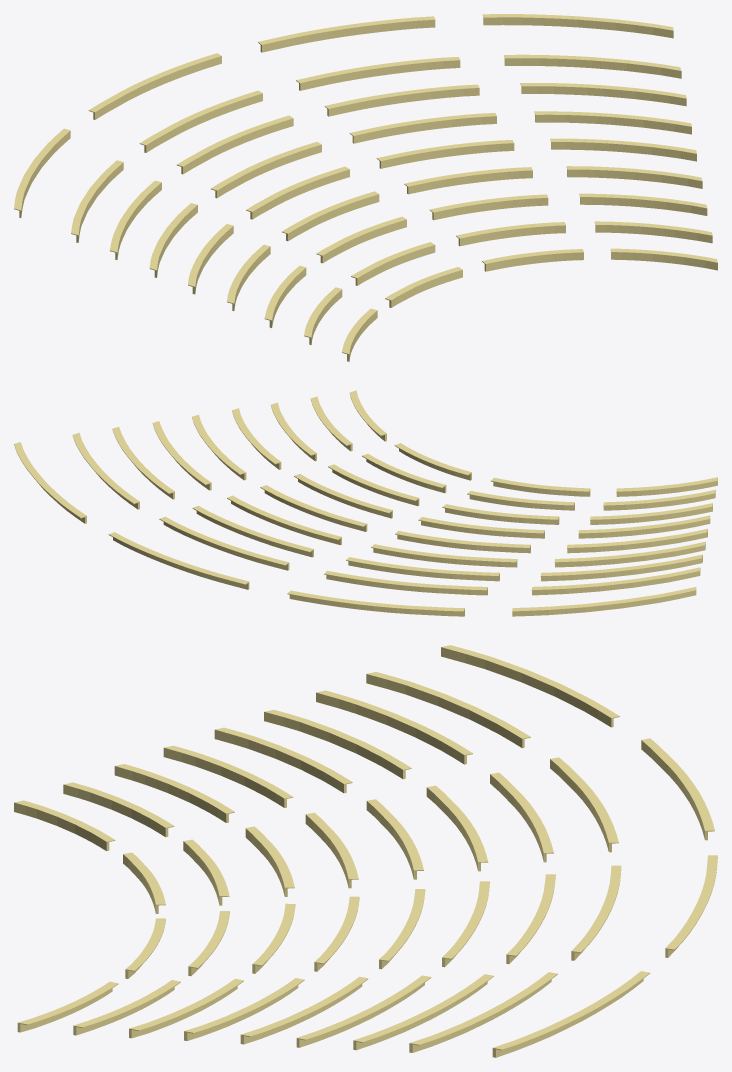
File: messas.fbx
3 views of the same model, one above another, from view 1: azimuth 30°, elevation 25°; view 2: azimuth 150°, elevation 25°; view 3: azimuth 270°, elevation 25° (orthographic). The views are drawn at different scales.
Visible parts, largest first — view 1: Cube.012; view 2: Cube.012; view 3: Cube.012.
Boxes of the visible parts, bbox=[...] form: Cube.012: bbox=[14, 14, 717, 361]; Cube.012: bbox=[14, 390, 717, 616]; Cube.012: bbox=[14, 645, 717, 1057].
Bounding box in the file's own units: 36766 × 3127 × 27038.
